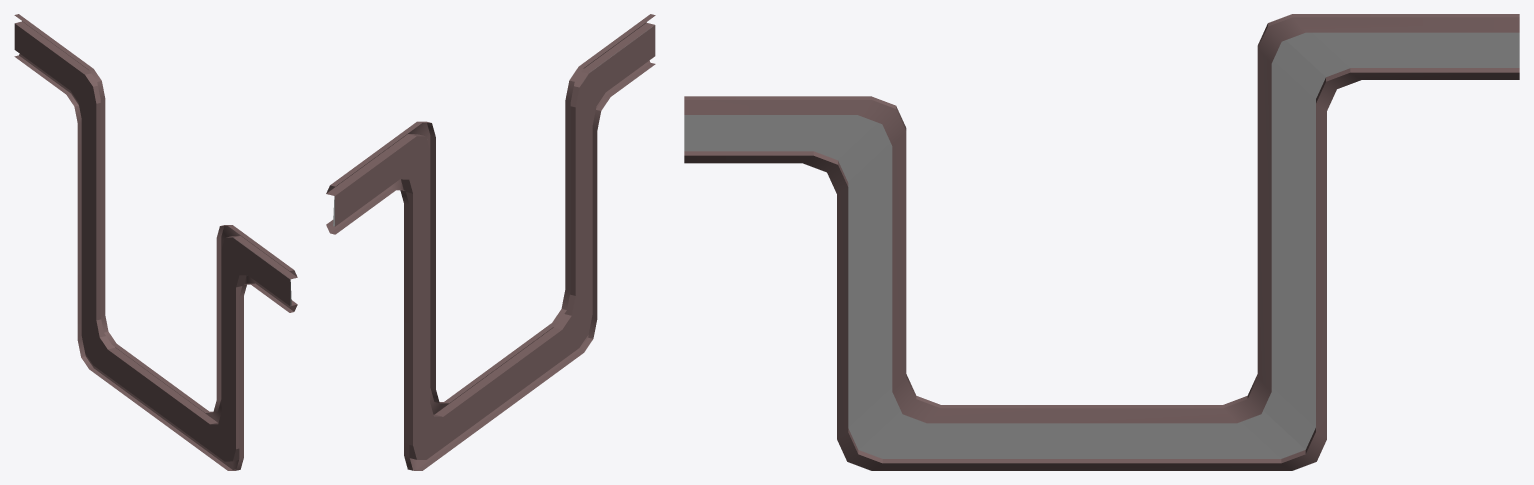
The model's file is ligne_technologique_B1.fbx.
3 renders of one model, left to right at view 1: azimuth 30°, elevation 25°; view 2: azimuth 150°, elevation 25°; view 3: azimuth 270°, elevation 25°, orthographic. The views are drawn at different scales.
Visible parts, largest first — view 1: ligne_techno_B1; view 2: ligne_techno_B1; view 3: ligne_techno_B1.
Part boxes in pixels (x1=…): ligne_techno_B1: x1=14, y1=14, x2=297, y2=470; ligne_techno_B1: x1=326, y1=14, x2=655, y2=470; ligne_techno_B1: x1=684, y1=14, x2=1519, y2=470.
Size of the model in its own units: 6.71 by 238 by 397.
